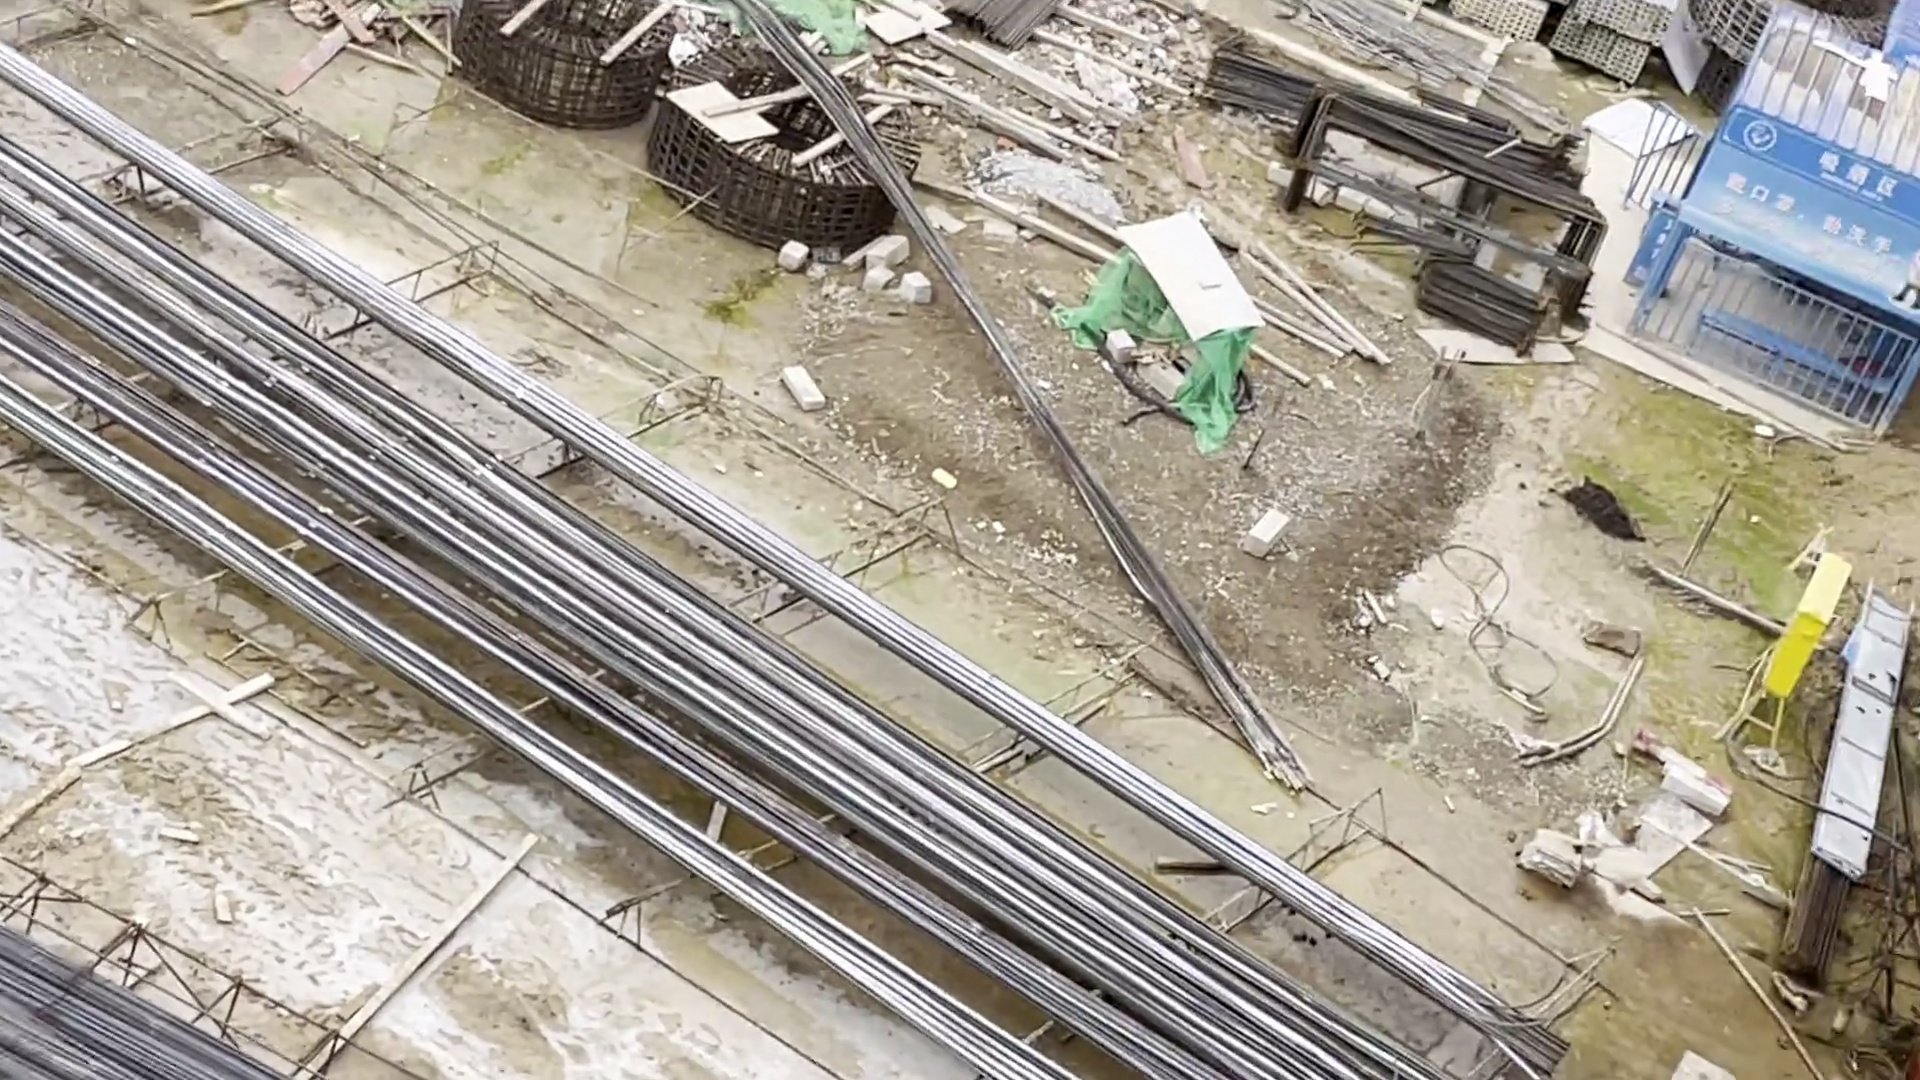ebox: (1753, 545, 1857, 741)
rebar: (684, 644, 1354, 1080), (82, 249, 530, 699), (11, 909, 245, 1080)
scaffold: (1433, 1, 1662, 87)
slogan: (1714, 121, 1913, 301)
